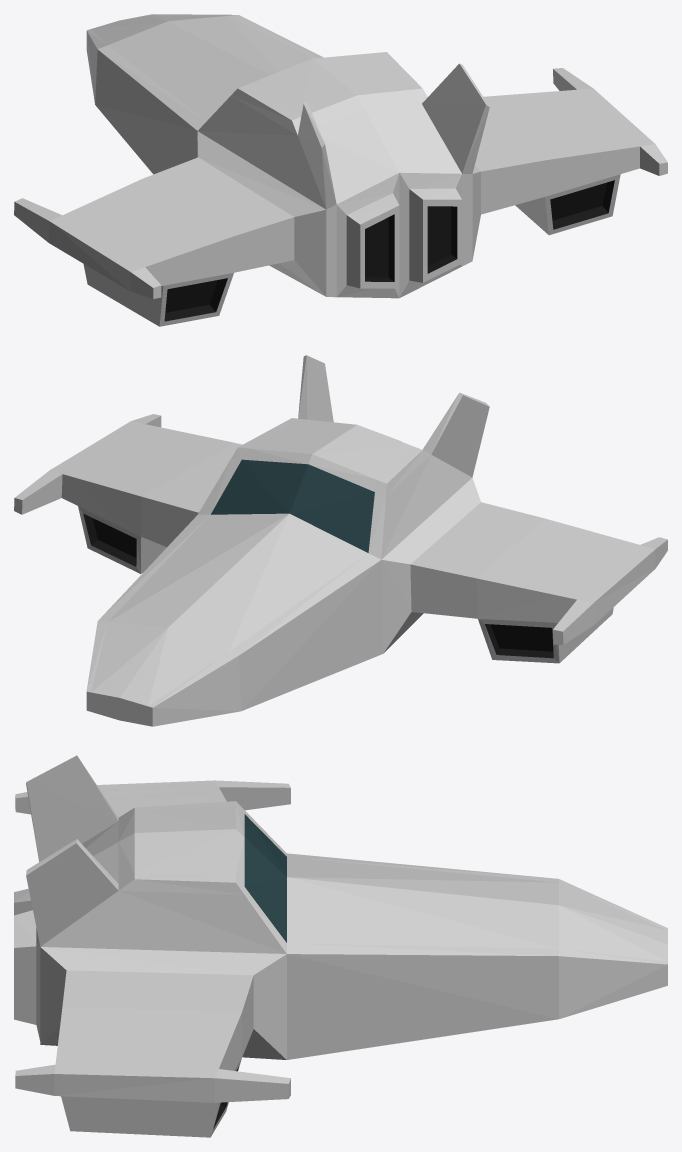
File: Ship.dae
3 renders of one model, top to bottom at view 1: azimuth 30°, elevation 25°; view 2: azimuth 150°, elevation 25°; view 3: azimuth 270°, elevation 25°, orthographic. The views are drawn at different scales.
Parts seen in each view (by area): view 1: Cube; view 2: Cube; view 3: Cube.
Boxes of the visible parts, left/top/right/bottom form: Cube: left=14, top=14, right=667, bottom=326; Cube: left=14, top=355, right=667, bottom=726; Cube: left=14, top=755, right=667, bottom=1137.
Bounding box in the file's own units: 2.54 × 2.34 × 0.9531.
